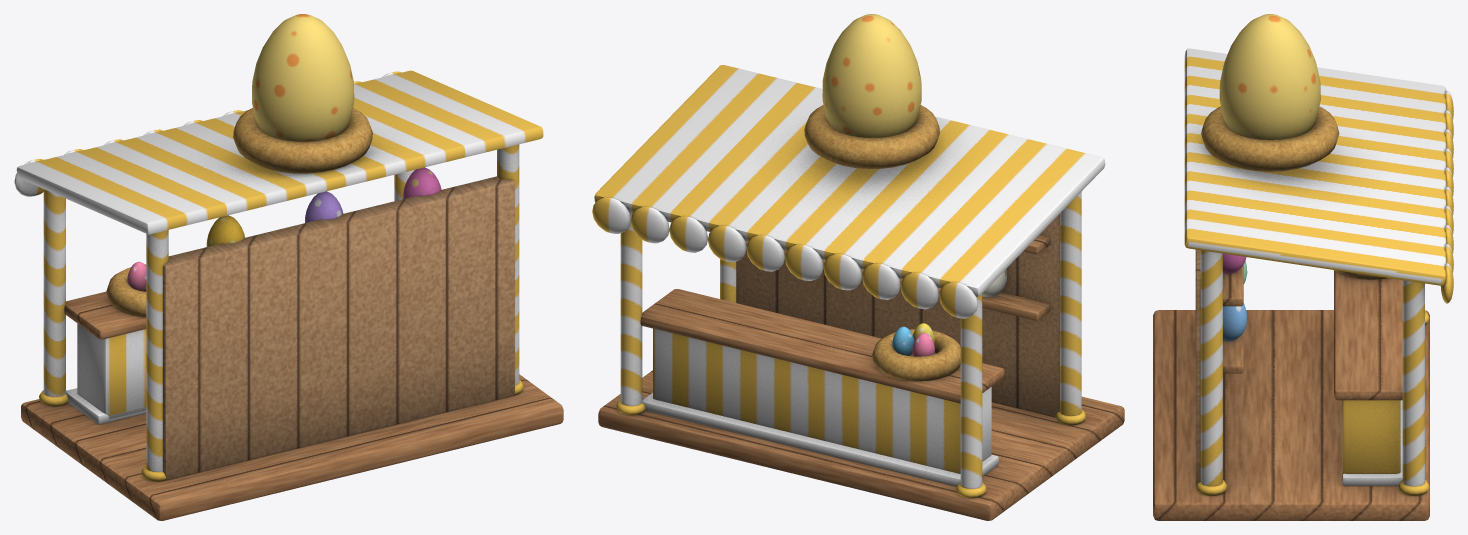
File: Egg Shop.fbx
3 views of the same model, side by side, from view 1: azimuth 30°, elevation 25°; view 2: azimuth 150°, elevation 25°; view 3: azimuth 270°, elevation 25° (orthographic). The views are drawn at different scales.
Visible parts, largest first — view 1: Egg Shop; view 2: Egg Shop; view 3: Egg Shop.
Part boxes in pixels (bbox=[...]): Egg Shop: bbox=[14, 14, 563, 520]; Egg Shop: bbox=[592, 14, 1124, 520]; Egg Shop: bbox=[1153, 14, 1453, 520].
Size of the model in its own units: 17.4 by 16.95 by 11.3.
Materials: 1 (1 with a texture image).
